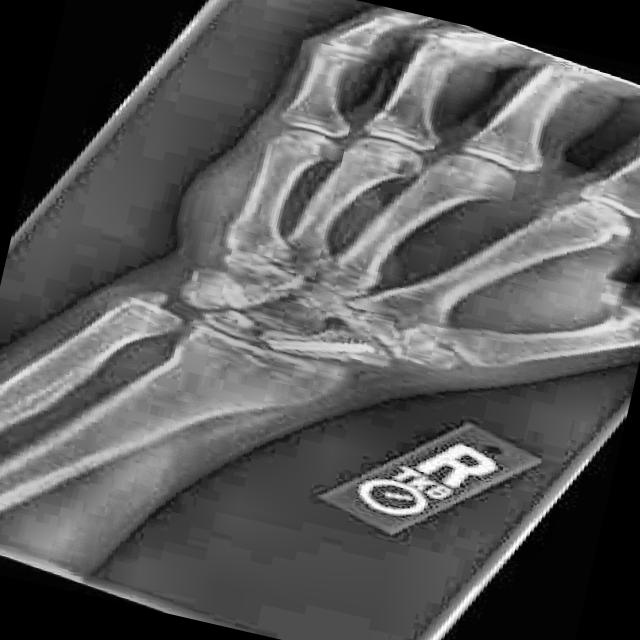wrist positive: (303, 341, 398, 376)
